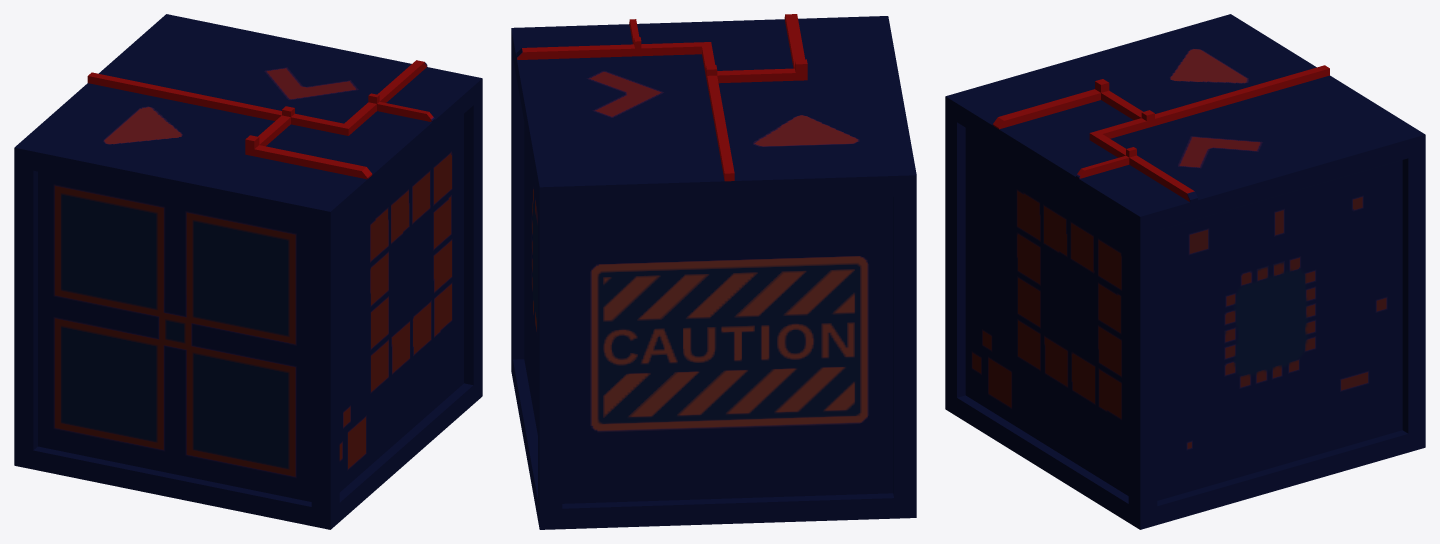
The picture shows the model from 3 angles, left to right: view 1: azimuth 30°, elevation 25°; view 2: azimuth 150°, elevation 25°; view 3: azimuth 270°, elevation 25°; orthographic projection. The views are drawn at different scales.
Parts seen in each view (by area): view 1: skrzynia1; view 2: skrzynia1; view 3: skrzynia1.
Part boxes in pixels (bbox=[...]): skrzynia1: bbox=[14, 14, 482, 529]; skrzynia1: bbox=[511, 14, 916, 529]; skrzynia1: bbox=[945, 14, 1425, 529].
Size of the model in its own units: 5.67 by 4.27 by 5.67.
Materials: 1 (1 with a texture image).
